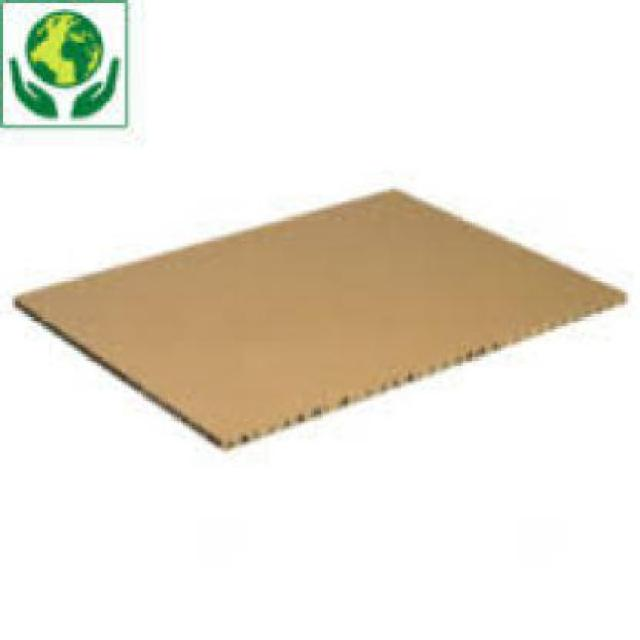PaperCardboard: (25, 180, 628, 446)
